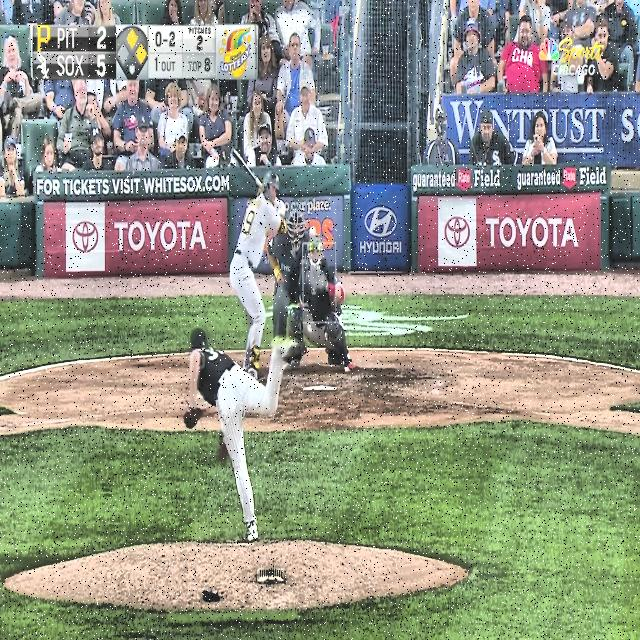baseball: (309, 226, 316, 238)
